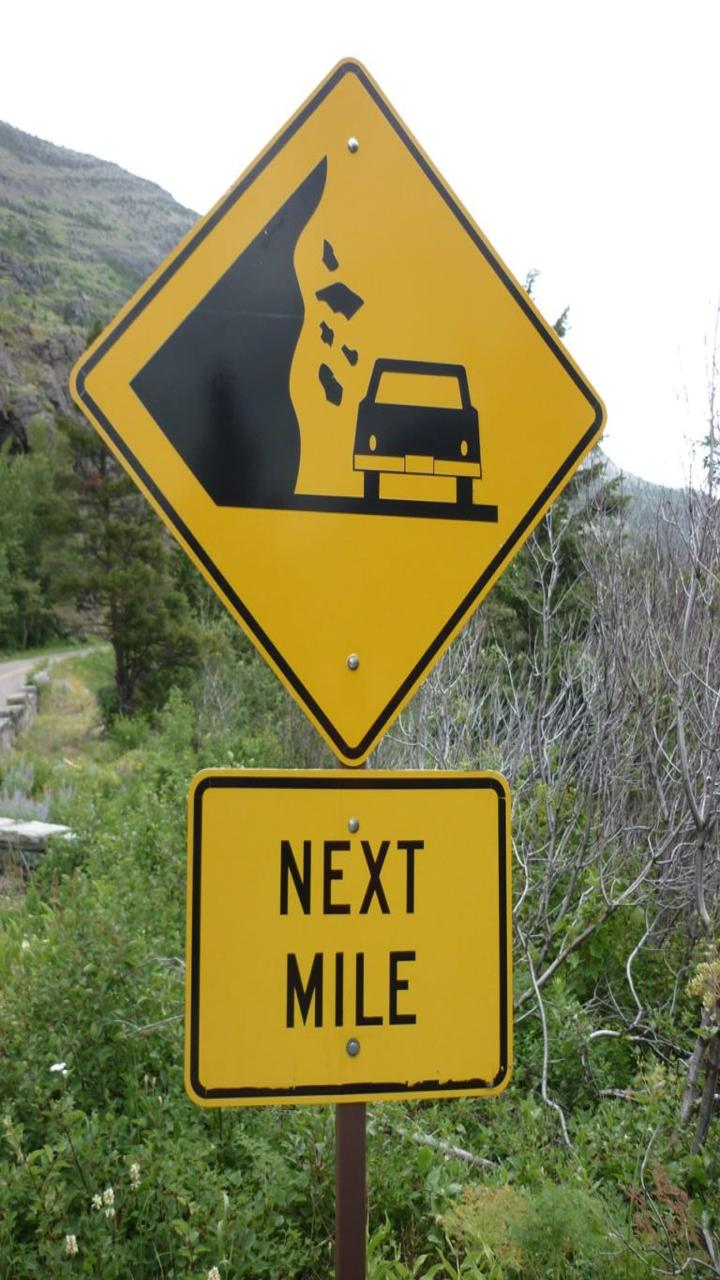Traffic sign: (39, 21, 679, 779), (155, 739, 543, 1143)
